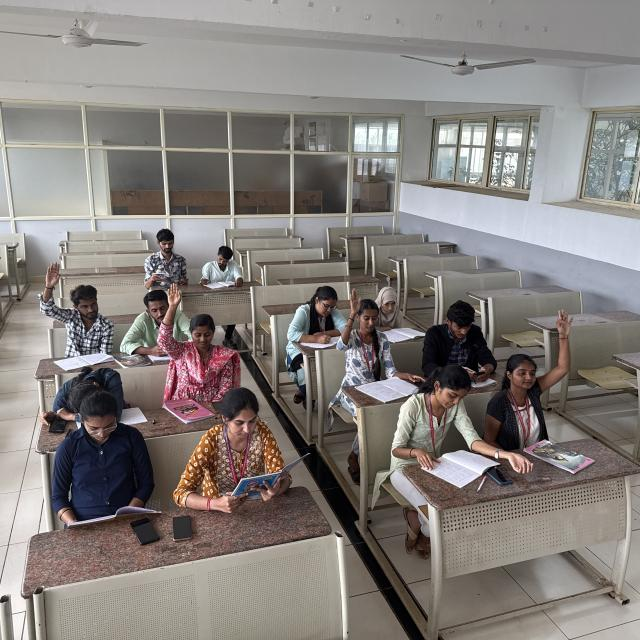Hand Rising: (499, 309, 571, 440), (159, 282, 235, 385), (33, 261, 114, 349), (338, 284, 398, 378)
Reading: (189, 390, 310, 500), (64, 390, 158, 523), (398, 369, 490, 471), (370, 285, 423, 339)
Sleeping: (57, 368, 130, 419)
Using Phone: (420, 288, 504, 386)
Writing: (286, 284, 346, 353), (197, 246, 243, 288)
